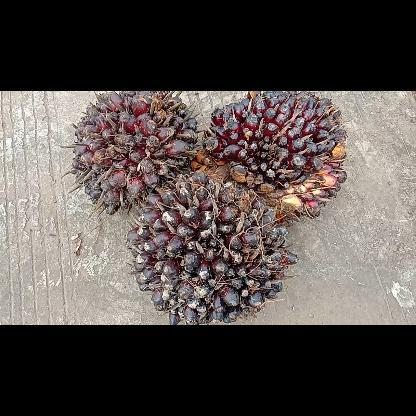TBS mentah: (124, 172, 300, 324), (188, 91, 350, 221), (69, 92, 201, 220)
